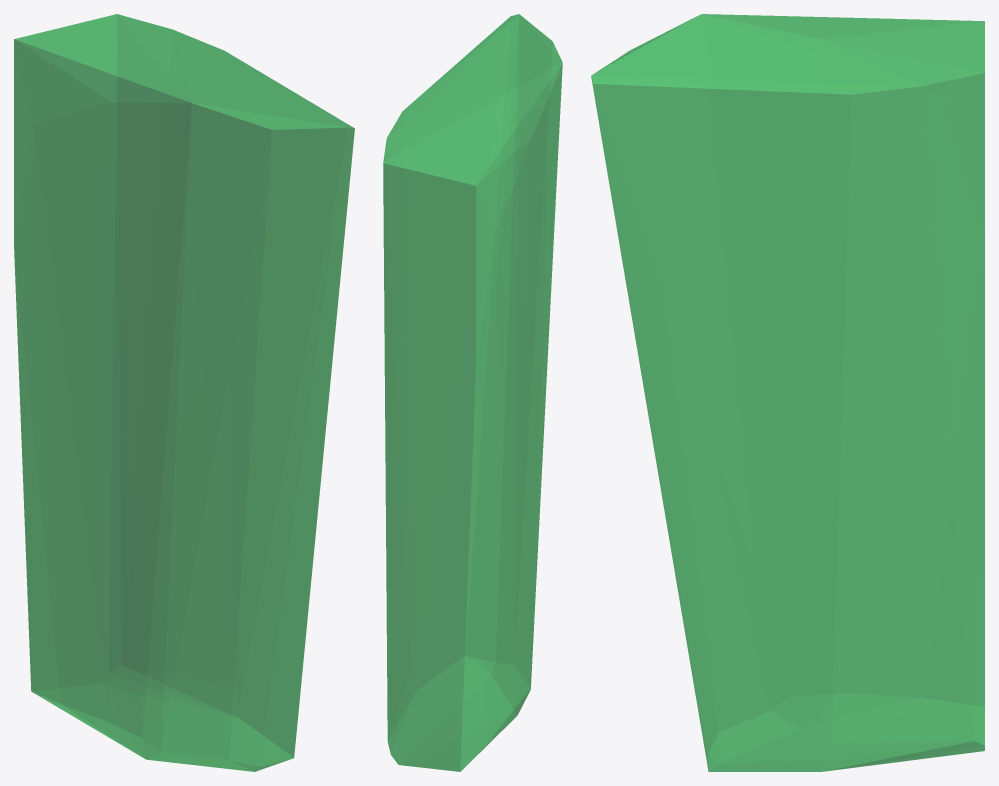
3 renders of one model, left to right at view 1: azimuth 30°, elevation 25°; view 2: azimuth 150°, elevation 25°; view 3: azimuth 270°, elevation 25°, orthographic. The views are drawn at different scales.
Visible parts, largest first — view 1: Shape_IndexedFaceSet.001_Shape_IndexedFaceSet.15983; view 2: Shape_IndexedFaceSet.001_Shape_IndexedFaceSet.15983; view 3: Shape_IndexedFaceSet.001_Shape_IndexedFaceSet.15983.
Boxes of the visible parts, x1,y1,x2,y2 form: Shape_IndexedFaceSet.001_Shape_IndexedFaceSet.15983: [14, 14, 354, 771]; Shape_IndexedFaceSet.001_Shape_IndexedFaceSet.15983: [383, 14, 562, 771]; Shape_IndexedFaceSet.001_Shape_IndexedFaceSet.15983: [591, 14, 984, 771].
Bounding box in the file's own units: 0.0607 × 0.266 × 0.133.
